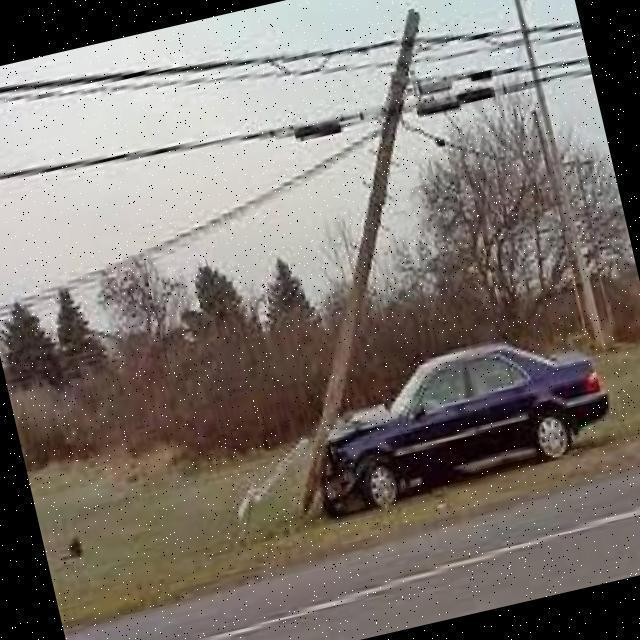accident: (279, 306, 633, 537)
